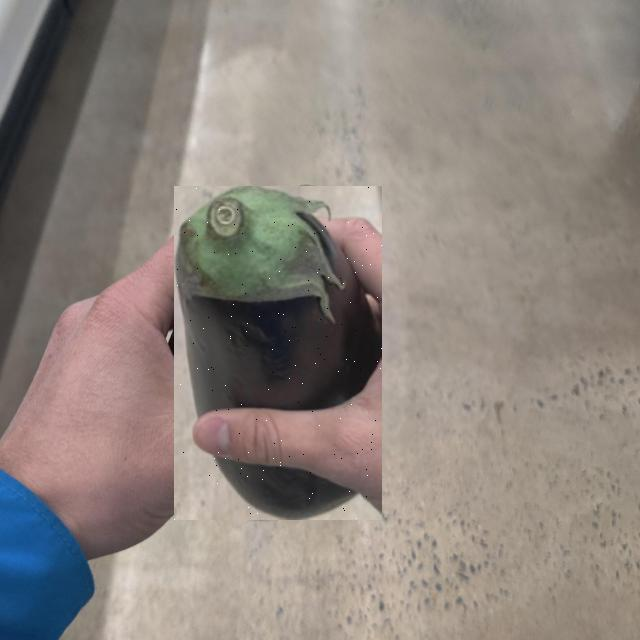Egg Plant: (174, 186, 382, 520)
